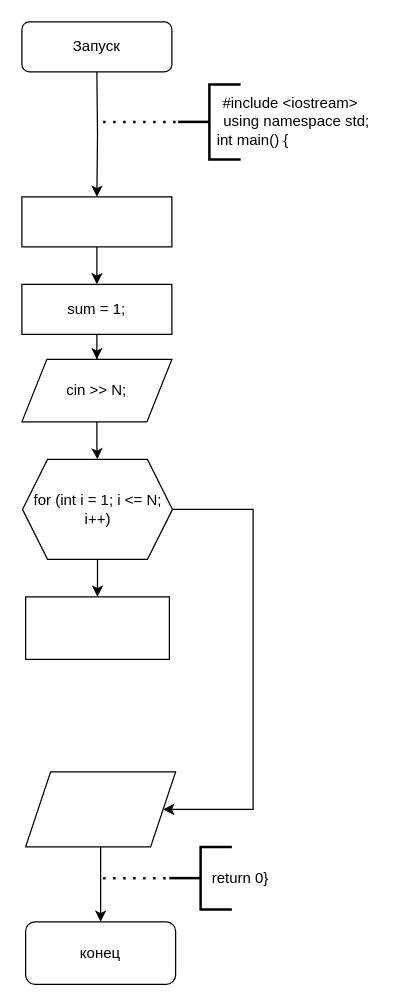
The diagram is 413 pixels wide and 1006 high, and some of its shapes have lost their labels. The shapes that lost their labels are listed below. From the top down, each one's centre as x and y in pixels, then its label:
At point 96,221: "int N,sum;".
At point 96,627: "sum=sum*i;".
At point 100,809: "cout << sum;".
